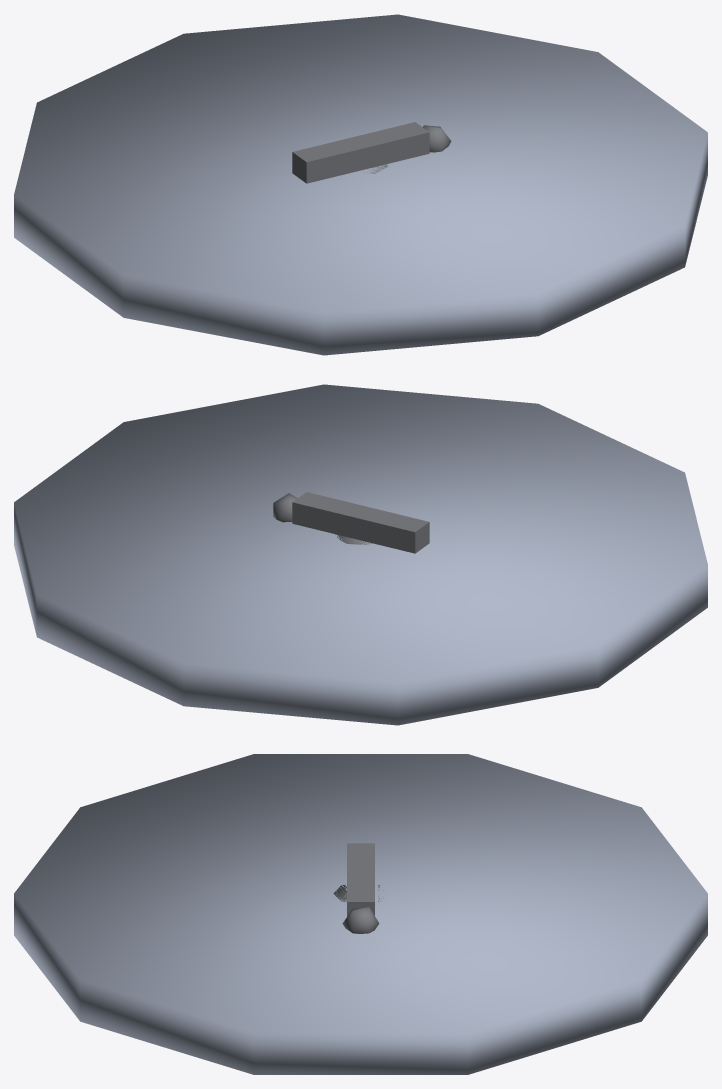
Rendered from tin_soldier.glb.
The picture shows the model from 3 angles, top to bottom: view 1: azimuth 30°, elevation 25°; view 2: azimuth 150°, elevation 25°; view 3: azimuth 270°, elevation 25°; orthographic projection. The views are drawn at different scales.
Parts seen in each view (by area): view 1: tin_soldier; view 2: tin_soldier; view 3: tin_soldier.
Boxes of the visible parts, box(x1,y1,x2,y2) form: tin_soldier: box(14, 14, 707, 355); tin_soldier: box(14, 384, 707, 725); tin_soldier: box(14, 754, 707, 1074).
Bounding box in the file's own units: 0.2853 × 0.03 × 0.3.
